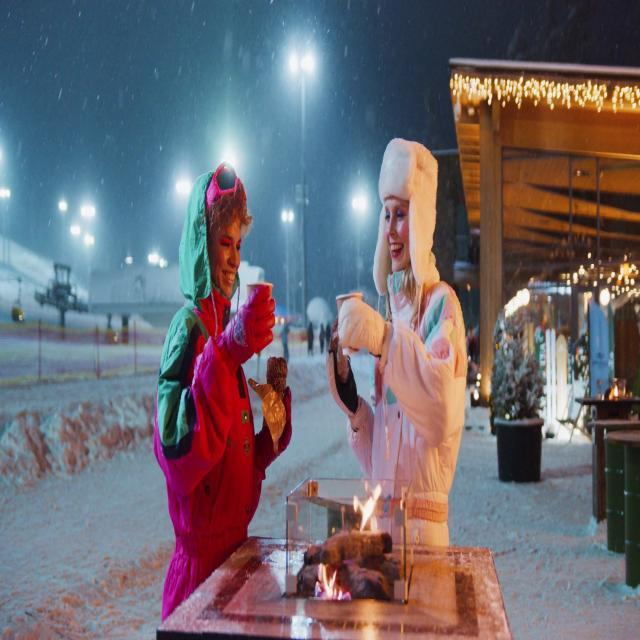Fire: (350, 476, 389, 538), (314, 562, 344, 610)
